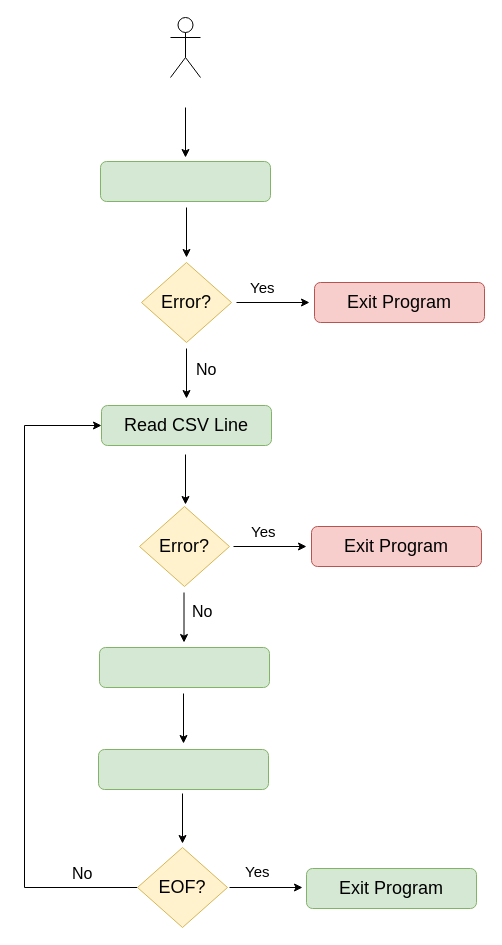
Image size: 502x945. Some labels were removed from this diagram. Here are the shapes that lost their labels. From the top down, the centre of each, then its label:
At pixel 185 47: "User Input".
At pixel 185 181: "Validate".
At pixel 184 667: "Calculate MSE".
At pixel 183 769: "Write to Output".
